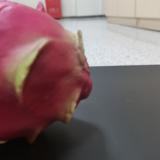pitaya: (1, 1, 92, 147)
